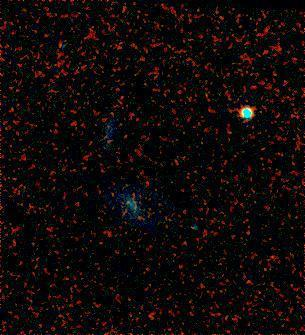star: (99, 183, 129, 213)
